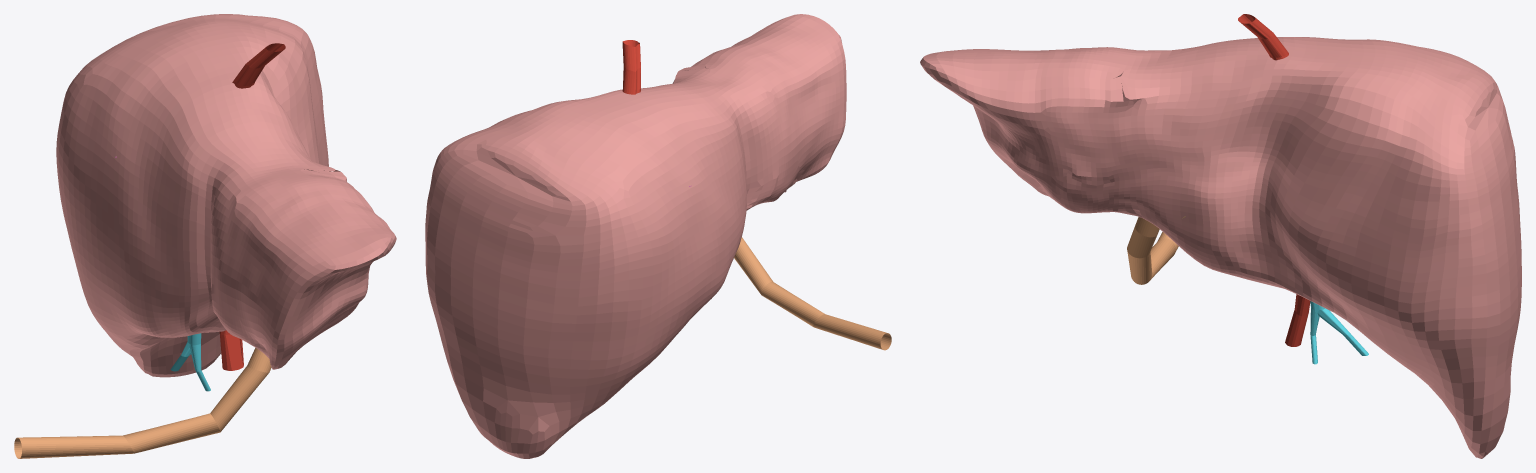
Rendered from Veinstranslucentouter.glb.
3 renders of one model, left to right at view 1: azimuth 30°, elevation 25°; view 2: azimuth 150°, elevation 25°; view 3: azimuth 270°, elevation 25°, orthographic. The views are drawn at different scales.
Visible parts, largest first — view 1: Cube, Circle; view 2: Cube, Circle; view 3: Cube, Circle.
Part boxes in pixels (left/top/right/bottom): Cube: left=56, top=14, right=396, bottom=377; Circle: left=14, top=43, right=285, bottom=458; Cube: left=425, top=14, right=846, bottom=458; Circle: left=622, top=40, right=891, bottom=350; Cube: left=920, top=37, right=1521, bottom=458; Circle: left=1127, top=14, right=1368, bottom=364.
Bounding box in the file's own units: 59.32 × 55.62 × 72.15.
